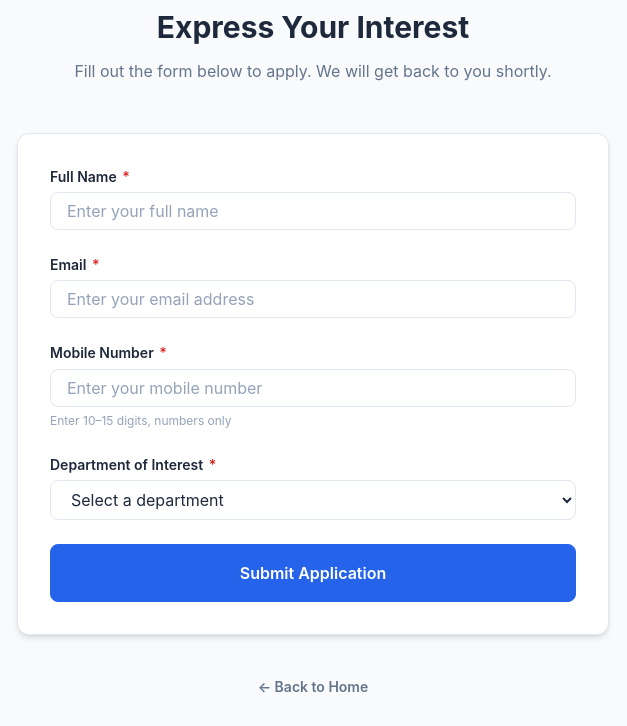
Test: InterestForm › validation errors › shows validation error for empty full name on submit
This screenshot has width=627, height=726.
Step 1. Click the button "Submit Application" → (313, 573), box left=50, top=544, right=576, bottom=602
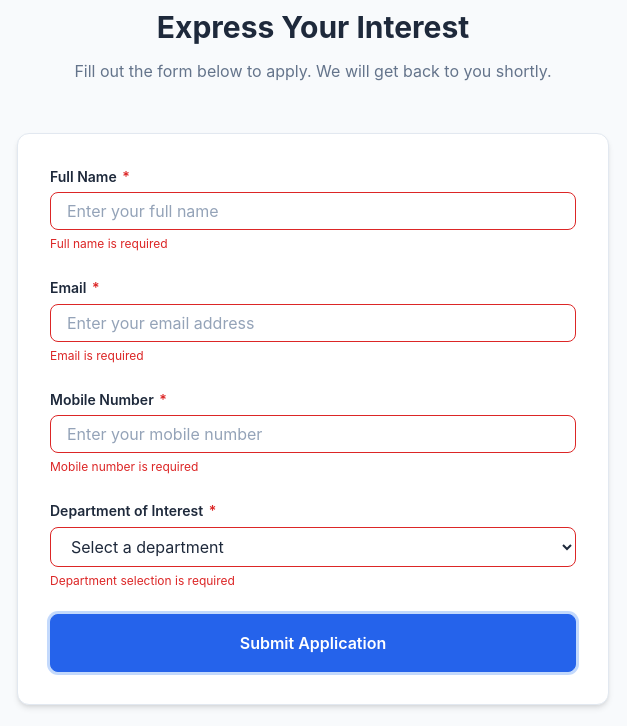
Expected: the text "Full name is required" is shown, left=50, top=236, right=168, bottom=251
